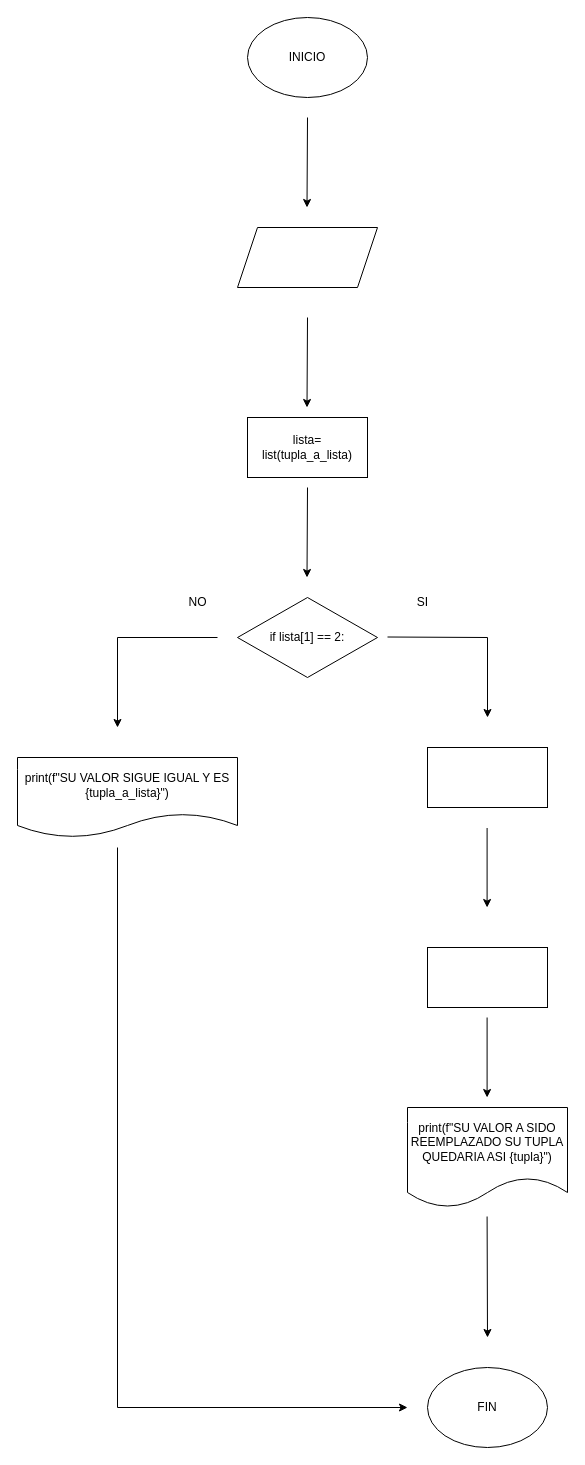
This 585x1465 diagram has some shape labels left out. The centre of each missing label's shape, as x and y in pixels:
lista[1]= 10: pixel 487 777
tupla= tuple(lista): pixel 487 977
tupla_a_lista= (1, 2, 3): pixel 307 257
